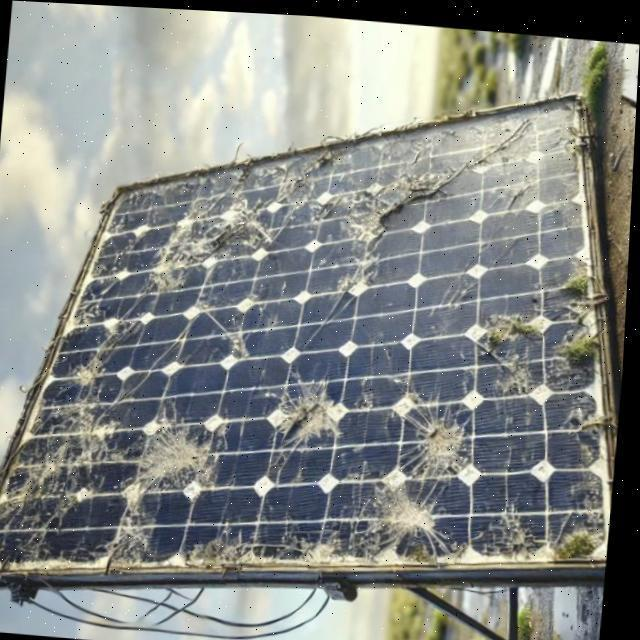Anomaly Solar Panel: (0, 86, 617, 574)
Structural Damage: (148, 182, 282, 296), (28, 397, 126, 520), (128, 403, 232, 510), (336, 154, 428, 270), (266, 364, 351, 464), (410, 396, 484, 480), (371, 476, 456, 543), (67, 351, 116, 397)
